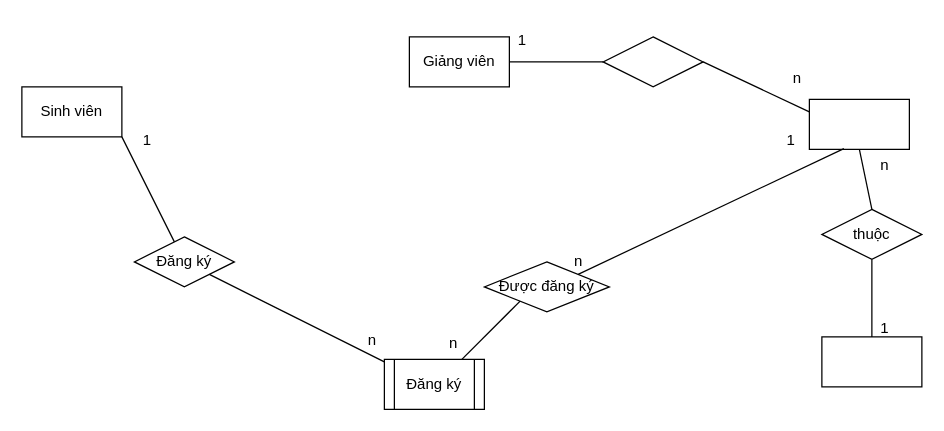
The diagram is 944 pixels wide and 431 high, and some of its shapes have lost their labels. Here are the shapes that lost their labels. From the top down, the centre of each, then its label:
At point (652, 61): "dạy".
At point (858, 123): "Lớp học phần".
At point (871, 361): "Môn học".
